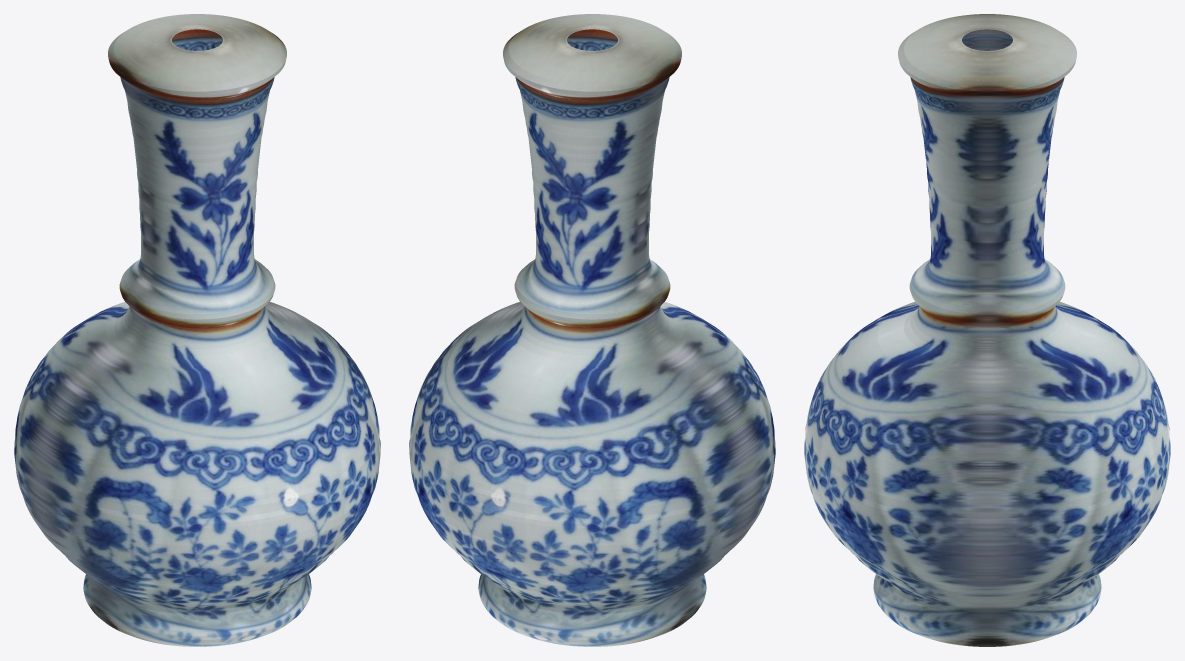
File: cma-84460.glb
The picture shows the model from 3 angles, left to right: view 1: azimuth 30°, elevation 25°; view 2: azimuth 150°, elevation 25°; view 3: azimuth 270°, elevation 25°; orthographic projection.
Visible parts, largest first — view 1: geometry_0; view 2: geometry_0; view 3: geometry_0.
Part boxes in pixels (bbox=[...]): geometry_0: bbox=[14, 14, 380, 646]; geometry_0: bbox=[409, 14, 775, 646]; geometry_0: bbox=[804, 14, 1170, 646].
Bounding box in the file's own units: 17.2 × 30 × 17.2.
1 material, 1 textured.
